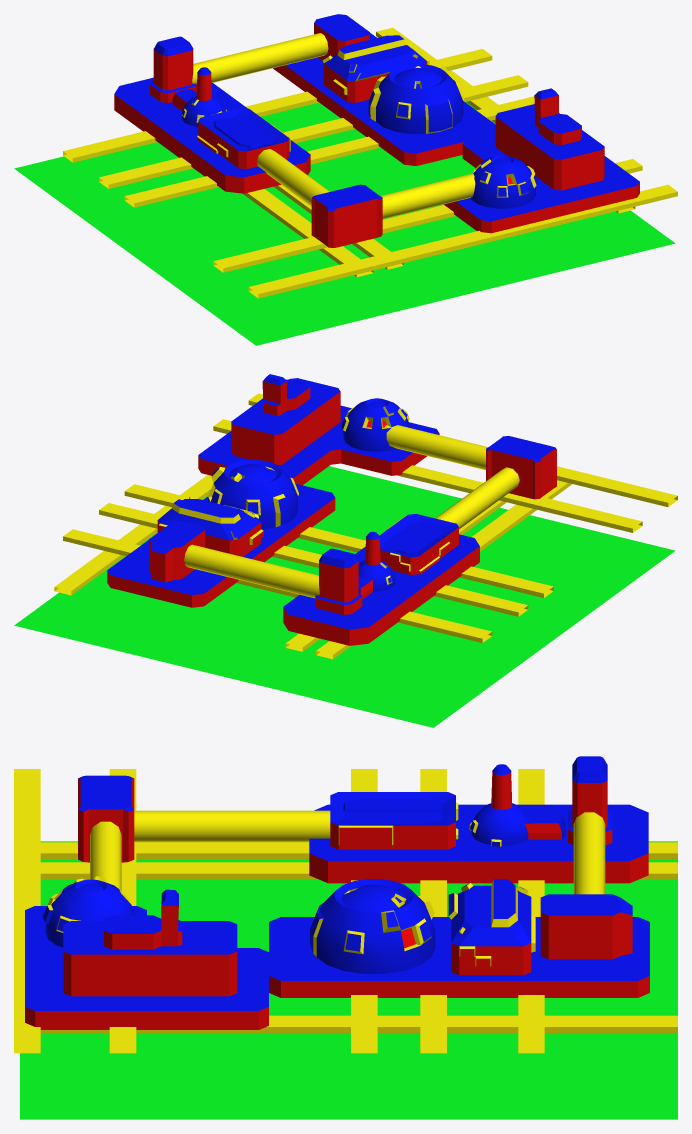
Rendered from mesh_space_estation_02.FBX.
3 views of the same model, one above another, from view 1: azimuth 30°, elevation 25°; view 2: azimuth 150°, elevation 25°; view 3: azimuth 270°, elevation 25° (orthographic). The views are drawn at different scales.
Parts seen in each view (by area): view 1: space_estation_02; view 2: space_estation_02; view 3: space_estation_02.
Part boxes in pixels (box(x1,y1,x2,y2)): space_estation_02: box(14, 14, 677, 345); space_estation_02: box(14, 374, 677, 727); space_estation_02: box(14, 756, 677, 1119).
Bounding box in the file's own units: 20 × 5.92 × 20.18.
